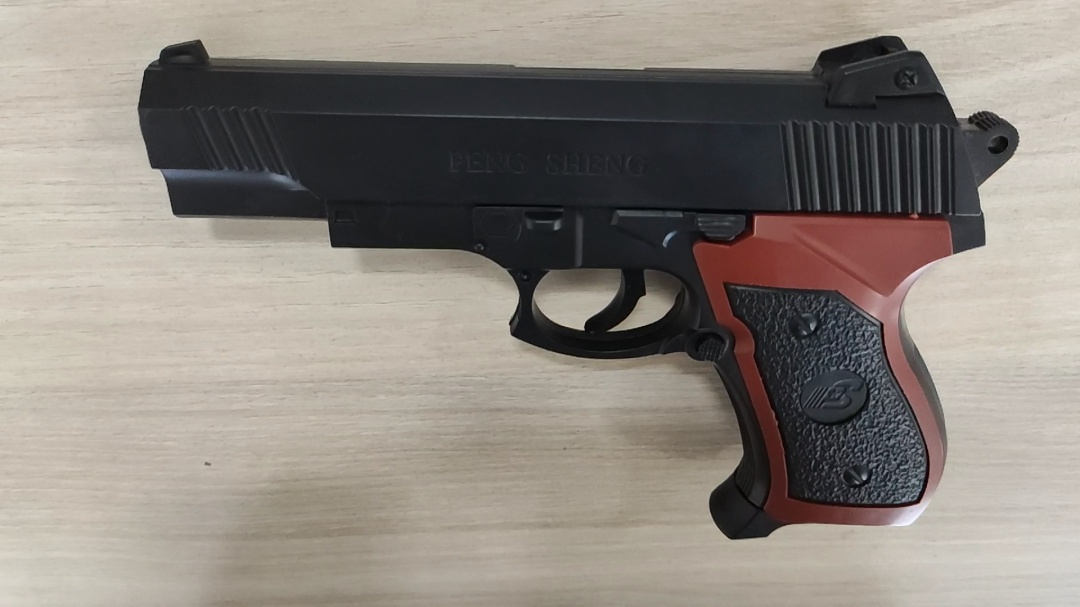gun: (394, 231, 484, 298)
